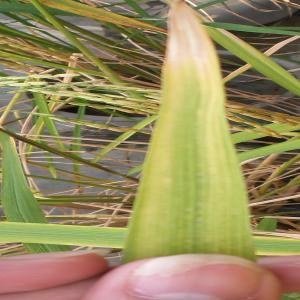Bacterial_Blight: (134, 1, 243, 255)
